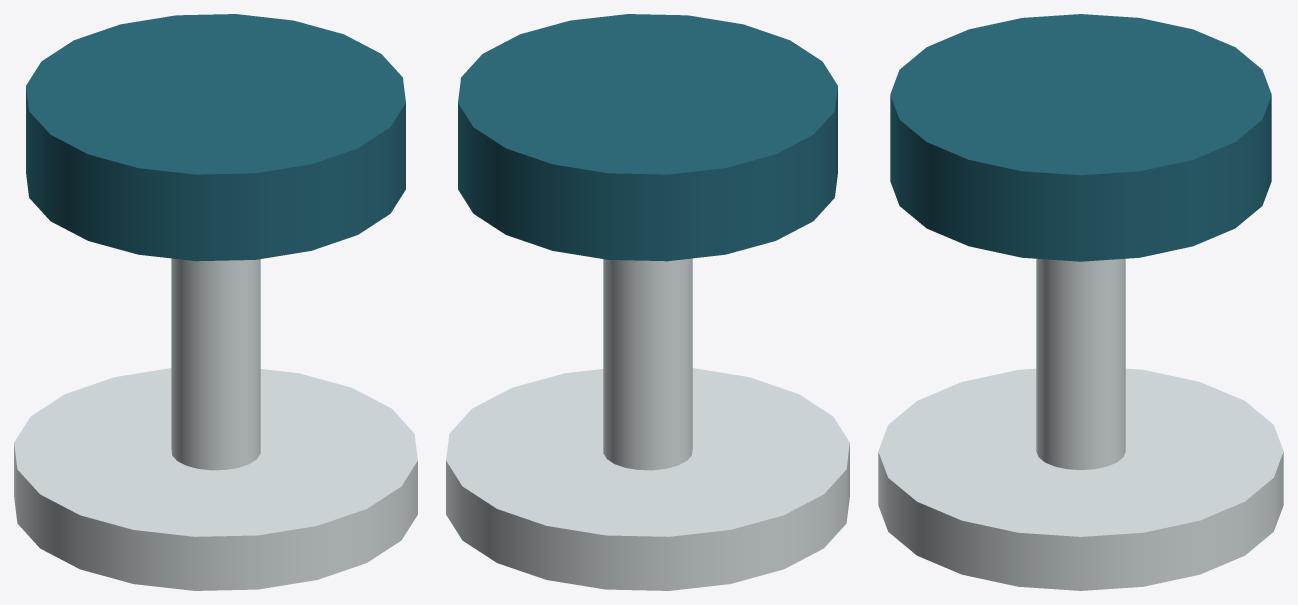
The model's file is laboratorio-taburete-1.glb.
The picture shows the model from 3 angles, left to right: view 1: azimuth 30°, elevation 25°; view 2: azimuth 150°, elevation 25°; view 3: azimuth 270°, elevation 25°; orthographic projection.
Parts seen in each view (by area): view 1: Blanco, Petroleo; view 2: Blanco, Petroleo; view 3: Blanco, Petroleo.
Part boxes in pixels (x1=…): Blanco: x1=14, y1=258, x2=417, y2=590; Petroleo: x1=26, y1=14, x2=405, y2=261; Blanco: x1=446, y1=258, x2=849, y2=590; Petroleo: x1=458, y1=14, x2=837, y2=261; Blanco: x1=878, y1=258, x2=1283, y2=590; Petroleo: x1=890, y1=14, x2=1271, y2=261.
Size of the model in its own units: 0.68 by 0.76 by 0.68.
